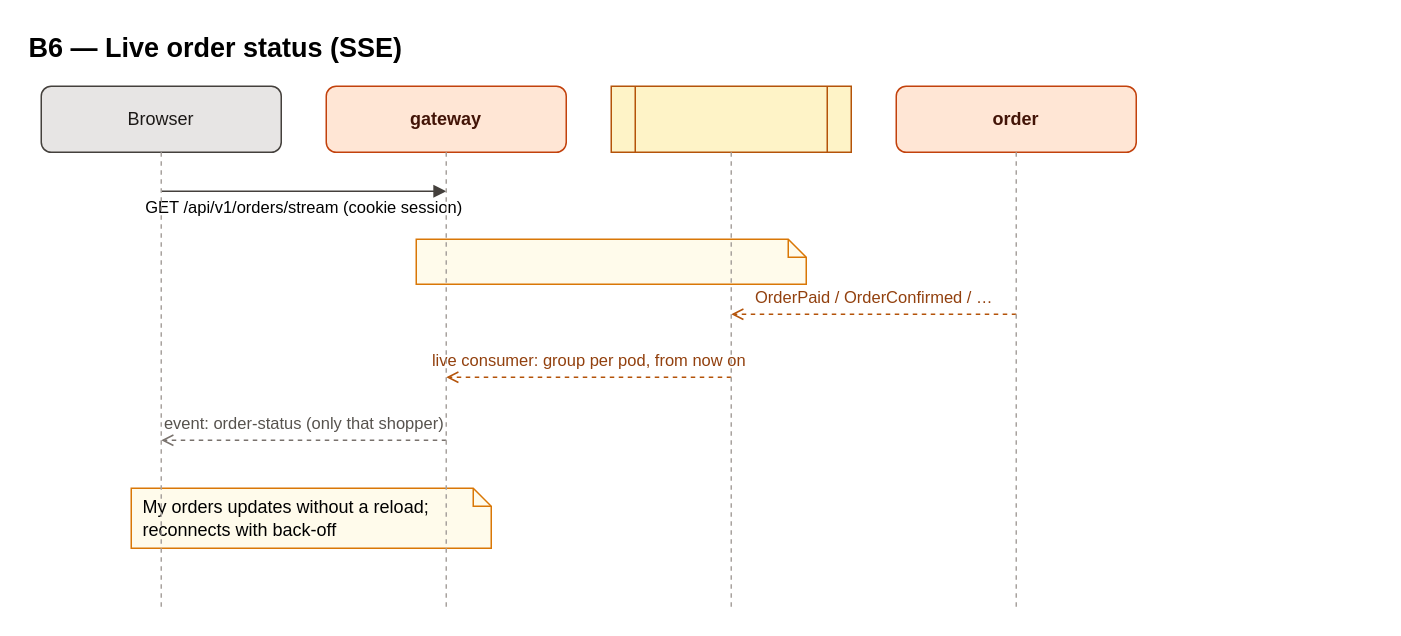
Some shapes in this 1401 by 636 pixel diagram are drawn without their labels. Each missing label, with the centre of its shape:
connection kept open, keyed by shopper id: (x=610, y=261)
Kafka: (x=730, y=118)
